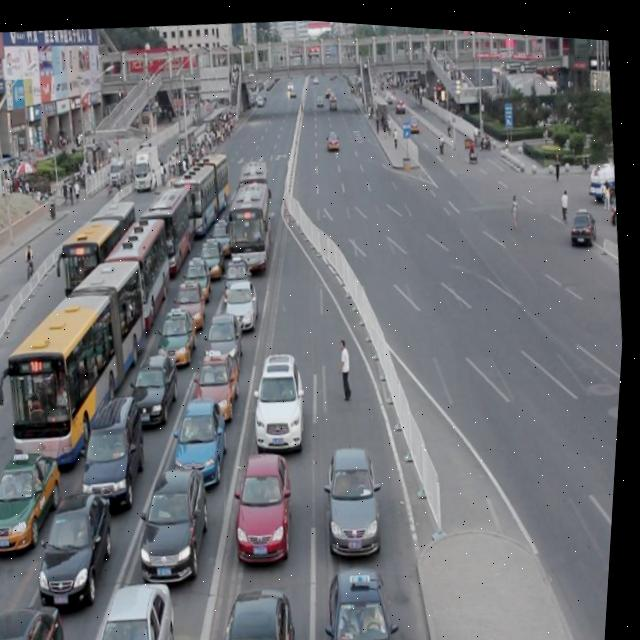car: (36, 489, 126, 609), (139, 465, 223, 586), (80, 393, 156, 511), (233, 449, 305, 561), (324, 441, 394, 554), (0, 447, 73, 554), (326, 558, 410, 640), (252, 350, 315, 451), (92, 578, 186, 640), (175, 395, 237, 486), (215, 582, 305, 640), (133, 351, 188, 427), (195, 347, 248, 422), (205, 309, 251, 375), (158, 305, 204, 366), (0, 603, 75, 640), (225, 280, 264, 329), (177, 280, 212, 327), (183, 252, 216, 298), (225, 252, 257, 296), (197, 234, 229, 278), (566, 195, 598, 239), (210, 216, 237, 256), (326, 124, 341, 146), (610, 181, 620, 213)
van: (0, 253, 165, 476), (50, 196, 149, 306), (96, 212, 182, 336), (170, 148, 238, 237), (138, 183, 202, 276), (225, 178, 278, 270), (236, 157, 277, 228)
